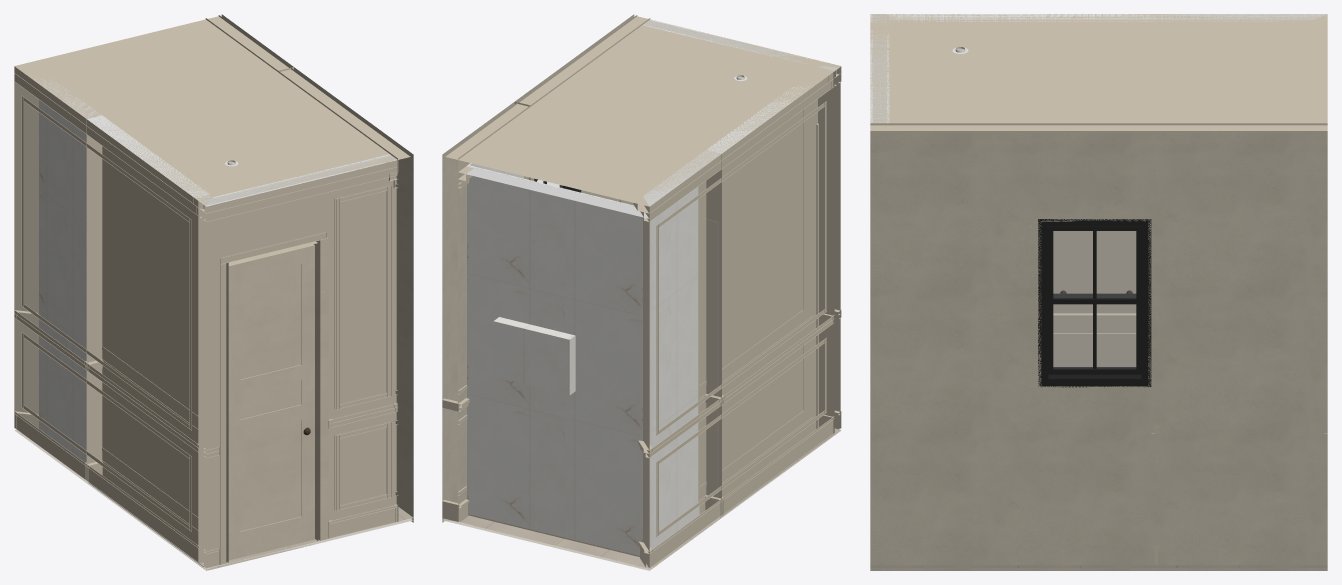
File: loli-bathroom-04a67fcb4c84.glb
The picture shows the model from 3 angles, left to right: view 1: azimuth 30°, elevation 25°; view 2: azimuth 150°, elevation 25°; view 3: azimuth 270°, elevation 25°; orthographic projection. The views are drawn at different scales.
Visible parts, largest first — view 1: loli-bathroom-2575515a05775d9e, loli-bathroom-03bdd0165789d12b, loli-bathroom-0e637d2be41161fb, loli-bathroom-eceff908bd344cec, loli-bathroom-5795d1714989146e, loli-bathroom-e64cabe238f3e83a, loli-bathroom-319244b3406409d9, loli-bathroom-4a0606b58a607568, loli-bathroom-a8b6749dbb482e83, loli-bathroom-609bc1027670cc96, loli-bathroom-cc15fd6f291c811e, loli-bathroom-92c333610bf7beb4 (+19 smaller); view 2: loli-bathroom-51561c1911f47dcb, loli-bathroom-2575515a05775d9e, loli-bathroom-03bdd0165789d12b, loli-bathroom-5795d1714989146e, loli-bathroom-1c7325212038a6e7, loli-bathroom-e462de76b61e99cf, loli-bathroom-a90dd75c175210c7, loli-bathroom-0e637d2be41161fb, loli-bathroom-e64cabe238f3e83a, loli-bathroom-a8b6749dbb482e83, loli-bathroom-cc15fd6f291c811e, loli-bathroom-92c333610bf7beb4 (+13 smaller); view 3: loli-bathroom-319244b3406409d9, loli-bathroom-e462de76b61e99cf, loli-bathroom-2575515a05775d9e, loli-bathroom-15d1eb52c435a27e, loli-bathroom-03bdd0165789d12b, loli-bathroom-0e637d2be41161fb, loli-bathroom-3b0077416469e01b, loli-bathroom-76fec1e12e3db62a, loli-bathroom-1c7325212038a6e7, loli-bathroom-3b79cb6a0eb20f8c, loli-bathroom-687fd4d2e321b111.
Part boxes in pixels (x1,y1,x2,y2): loli-bathroom-2575515a05775d9e: (14, 15, 410, 201); loli-bathroom-03bdd0165789d12b: (86, 115, 209, 560); loli-bathroom-0e637d2be41161fb: (198, 154, 397, 568); loli-bathroom-eceff908bd344cec: (228, 244, 314, 560); loli-bathroom-5795d1714989146e: (39, 100, 86, 462); loli-bathroom-e64cabe238f3e83a: (14, 78, 38, 428); loli-bathroom-319244b3406409d9: (278, 67, 413, 521); loli-bathroom-4a0606b58a607568: (318, 237, 328, 540); loli-bathroom-a8b6749dbb482e83: (14, 412, 199, 562); loli-bathroom-609bc1027670cc96: (206, 160, 398, 221); loli-bathroom-cc15fd6f291c811e: (14, 67, 199, 216); loli-bathroom-92c333610bf7beb4: (21, 96, 191, 430); loli-bathroom-51561c1911f47dcb: (467, 165, 642, 556); loli-bathroom-2575515a05775d9e: (445, 15, 840, 206); loli-bathroom-03bdd0165789d12b: (707, 86, 833, 482); loli-bathroom-5795d1714989146e: (641, 187, 698, 549); loli-bathroom-1c7325212038a6e7: (643, 150, 721, 567); loli-bathroom-e462de76b61e99cf: (442, 102, 530, 502); loli-bathroom-a90dd75c175210c7: (493, 317, 575, 395); loli-bathroom-0e637d2be41161fb: (643, 19, 840, 433); loli-bathroom-e64cabe238f3e83a: (458, 165, 649, 548); loli-bathroom-a8b6749dbb482e83: (649, 416, 834, 567); loli-bathroom-cc15fd6f291c811e: (649, 72, 834, 221); loli-bathroom-92c333610bf7beb4: (656, 101, 826, 435); loli-bathroom-319244b3406409d9: (870, 123, 1155, 565); loli-bathroom-e462de76b61e99cf: (1155, 123, 1327, 565); loli-bathroom-2575515a05775d9e: (870, 14, 1327, 132); loli-bathroom-15d1eb52c435a27e: (1038, 219, 1151, 387); loli-bathroom-03bdd0165789d12b: (889, 14, 1155, 366); loli-bathroom-0e637d2be41161fb: (870, 14, 889, 123); loli-bathroom-3b0077416469e01b: (870, 565, 1327, 567); loli-bathroom-76fec1e12e3db62a: (870, 568, 1327, 570); loli-bathroom-1c7325212038a6e7: (1155, 14, 1326, 21); loli-bathroom-3b79cb6a0eb20f8c: (1053, 313, 1136, 323); loli-bathroom-687fd4d2e321b111: (872, 14, 883, 123).
Size of the model in its own units: 1.8 by 3.05 by 2.88.
33 materials, 7 textured.
